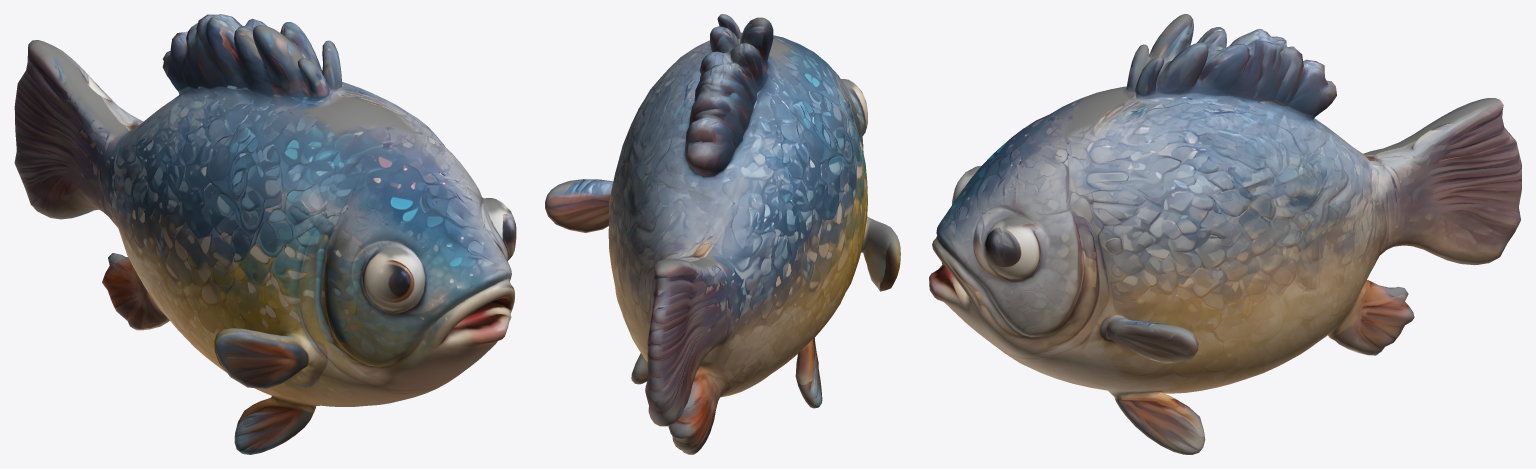
File: ReflectingAttack.obj
3 renders of one model, left to right at view 1: azimuth 30°, elevation 25°; view 2: azimuth 150°, elevation 25°; view 3: azimuth 270°, elevation 25°, orthographic. The views are drawn at different scales.
Visible parts, largest first — view 1: tripo_mesh_e9060b9f; view 2: tripo_mesh_e9060b9f; view 3: tripo_mesh_e9060b9f.
Boxes of the visible parts, x1,y1,x2,y2 form: tripo_mesh_e9060b9f: (14, 14, 516, 454); tripo_mesh_e9060b9f: (545, 14, 900, 454); tripo_mesh_e9060b9f: (929, 14, 1521, 454).
Size of the model in its own units: 57.73 by 71.38 by 99.46.
Materials: 1 (1 with a texture image).
